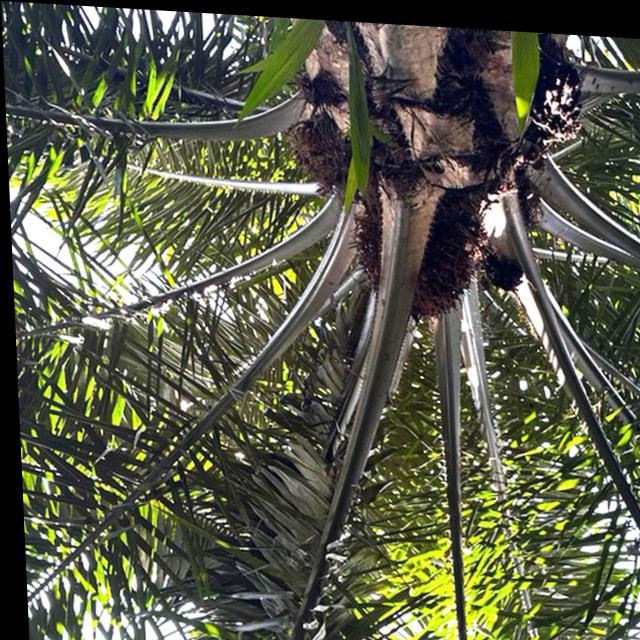ripe: (335, 174, 484, 331)
